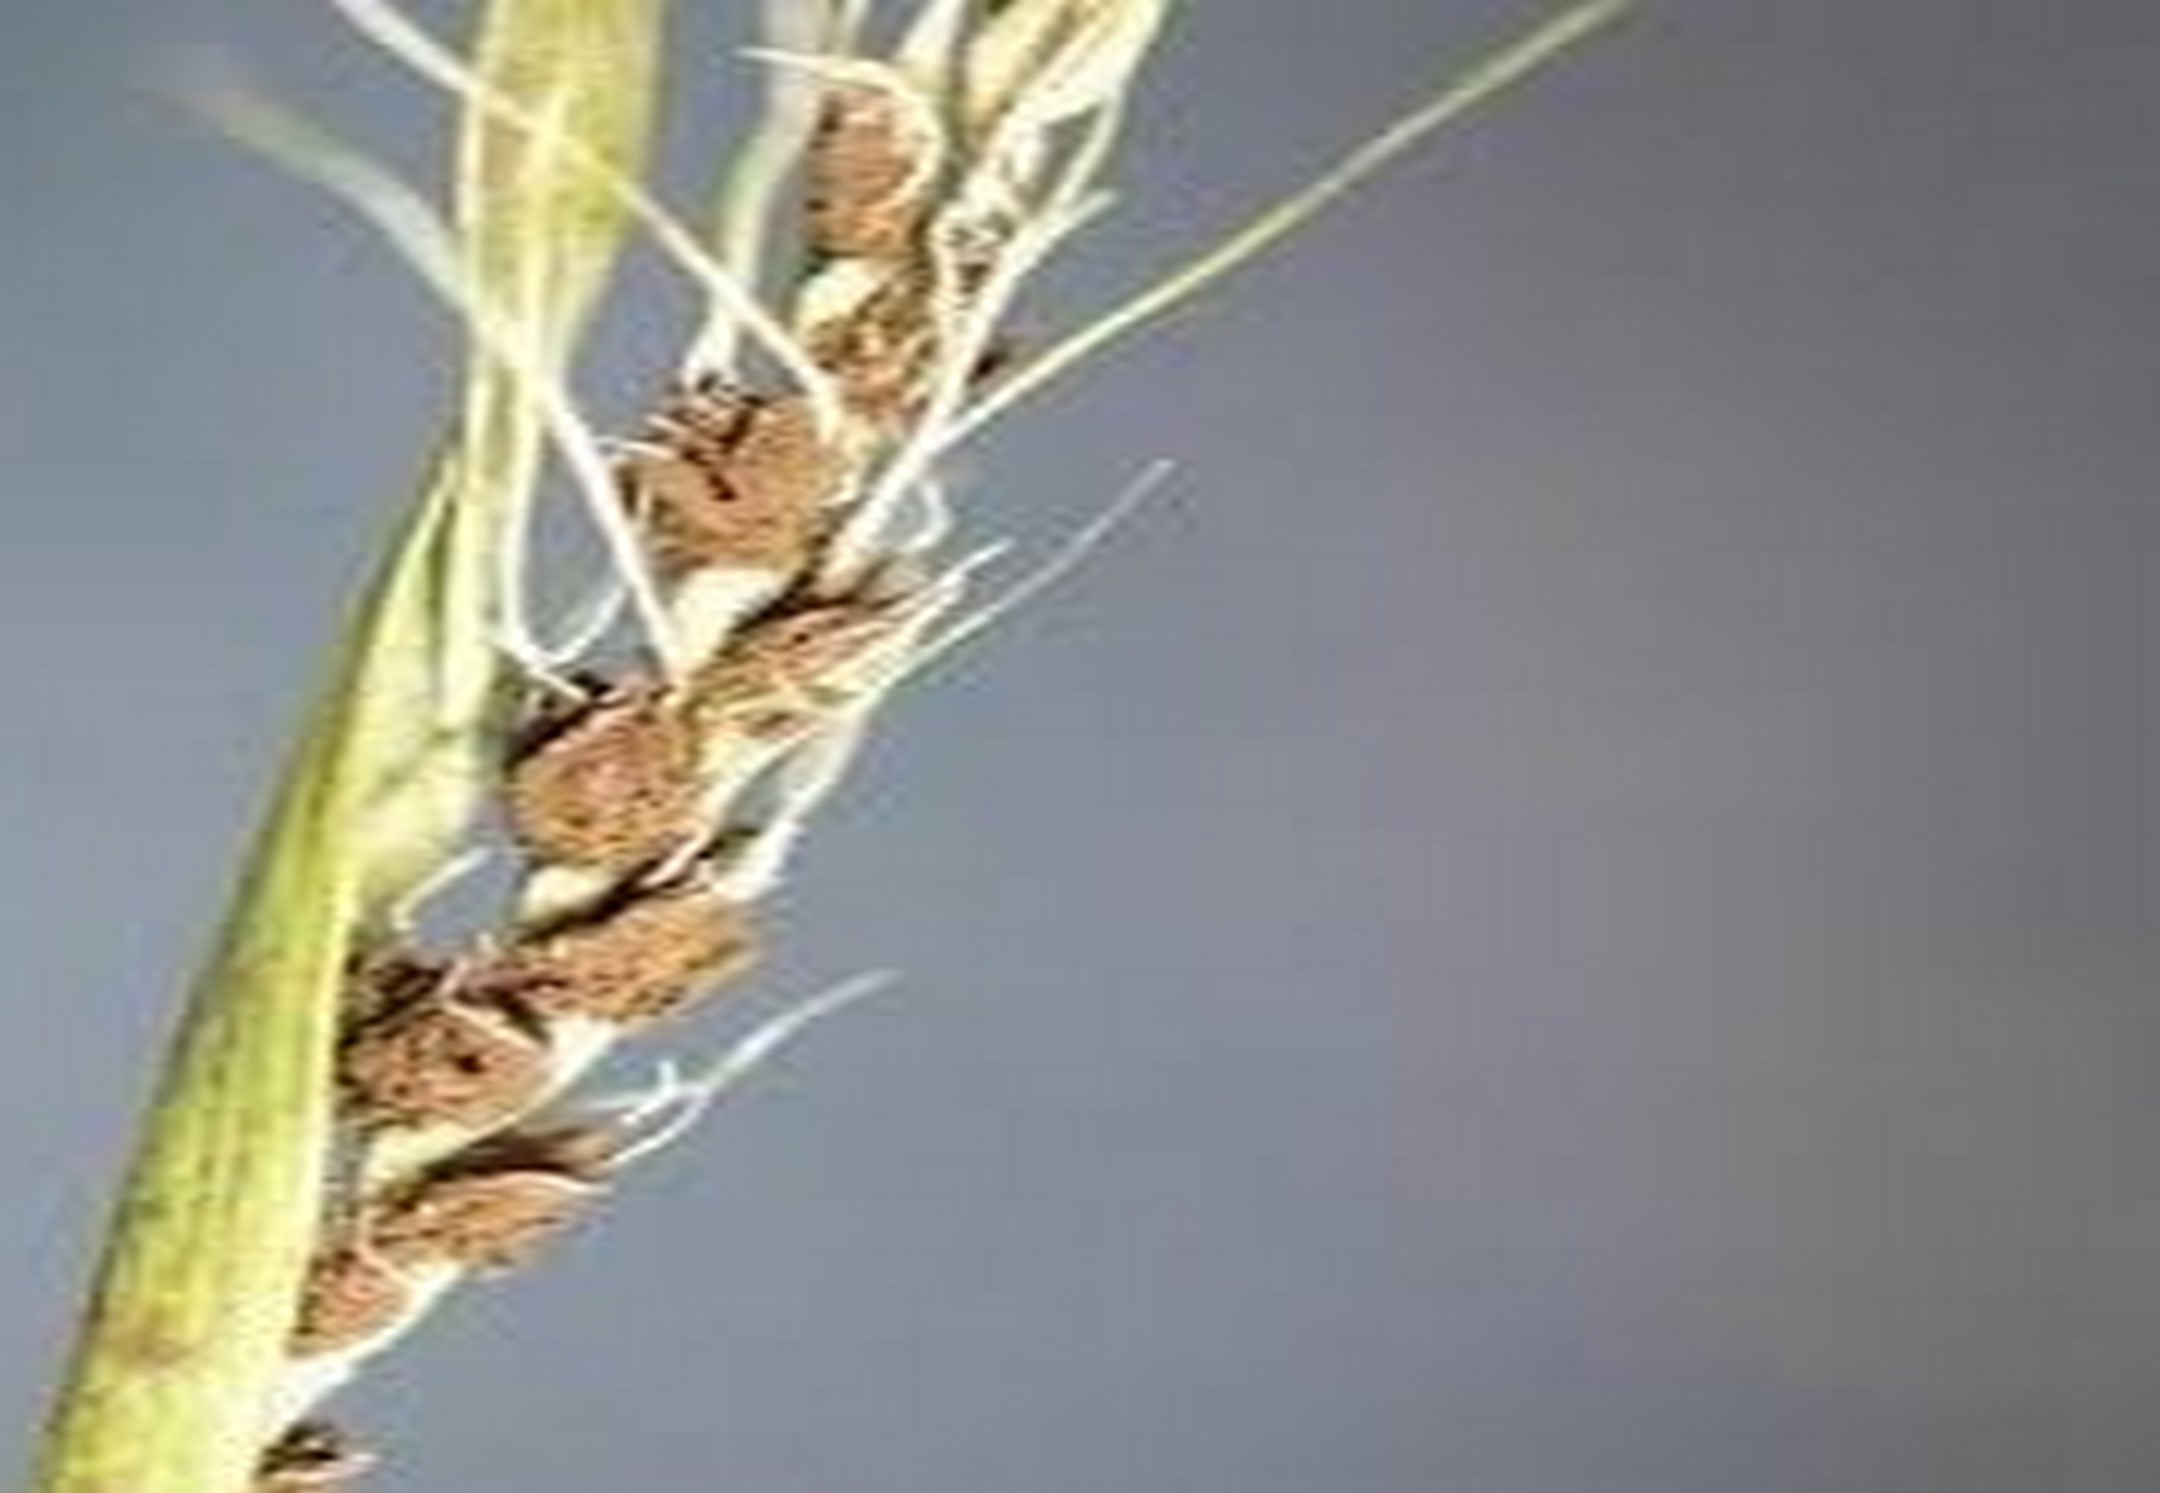Wheat Loose Smut: (397, 108, 1229, 1313)
